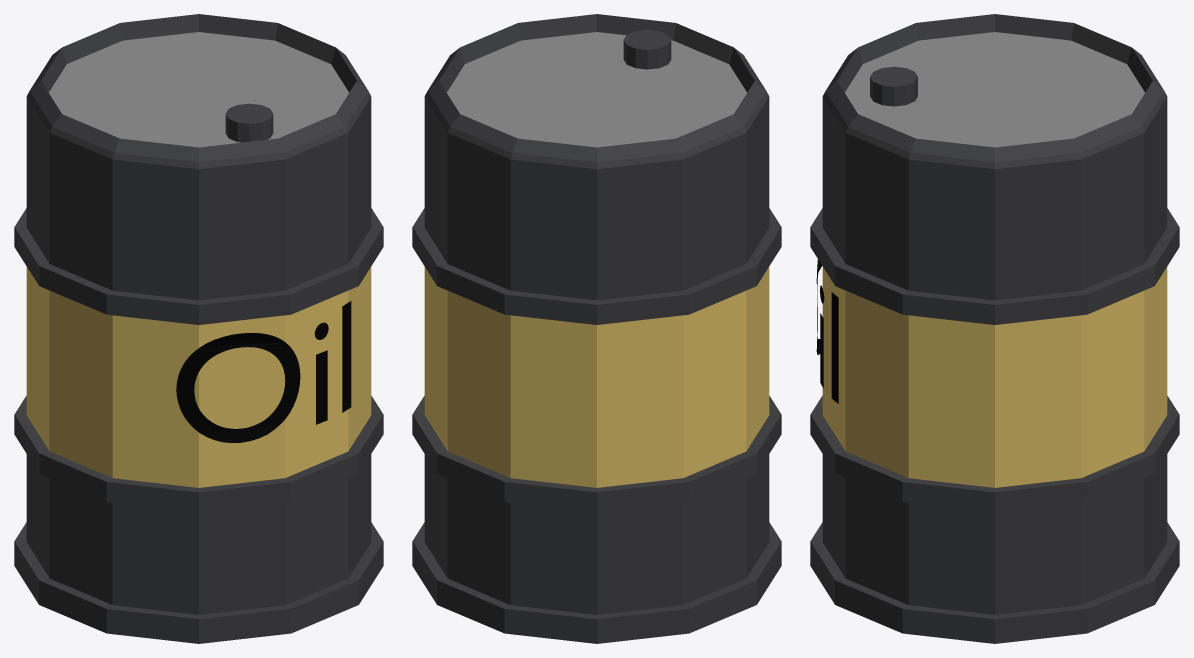
File: OilBarrel.fbx
3 renders of one model, left to right at view 1: azimuth 30°, elevation 25°; view 2: azimuth 150°, elevation 25°; view 3: azimuth 270°, elevation 25°, orthographic.
Parts seen in each view (by area): view 1: Cylinder, Text; view 2: Cylinder; view 3: Cylinder, Text.
Boxes of the visible parts, x1,y1,x2,y2 form: Cylinder: (14,14,383,643); Text: (176,301,351,442); Cylinder: (412,14,781,643); Cylinder: (810,14,1179,643); Text: (816,259,838,403).
Bounding box in the file's own units: 214 × 313 × 214.
